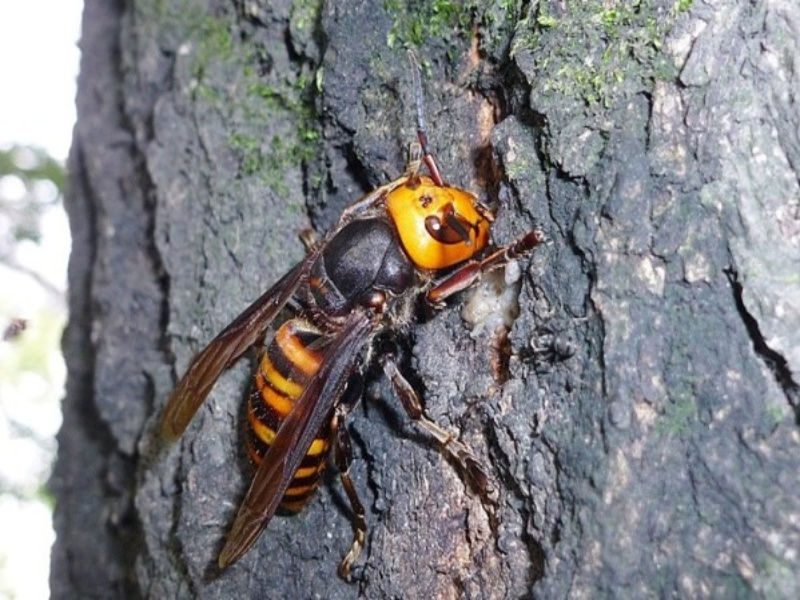asian_giant_hornet: (236, 140, 494, 518)
